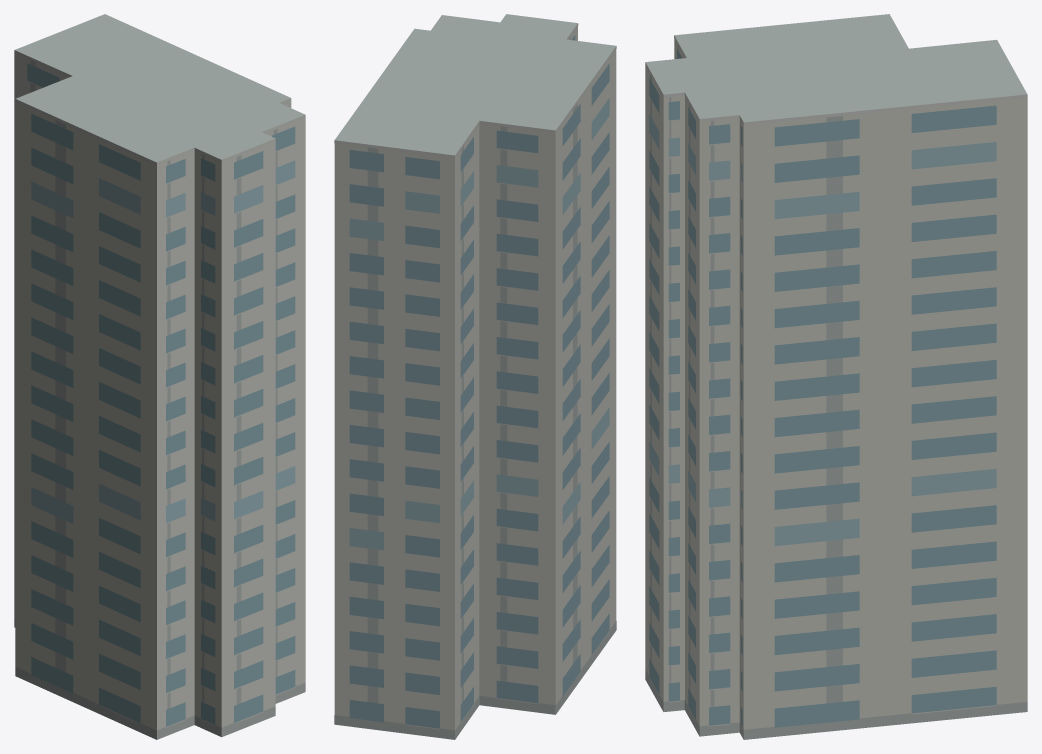
The model's file is survey-upis-32800722.glb.
3 views of the same model, side by side, from view 1: azimuth 30°, elevation 25°; view 2: azimuth 150°, elevation 25°; view 3: azimuth 270°, elevation 25° (orthographic). The views are drawn at different scales.
Parts seen in each view (by area): view 1: survey-upis-32800722.tmp; view 2: survey-upis-32800722.tmp; view 3: survey-upis-32800722.tmp.
Boxes of the visible parts, box(x1,y1,x2,y2) form: survey-upis-32800722.tmp: box(14, 14, 305, 739); survey-upis-32800722.tmp: box(334, 14, 616, 739); survey-upis-32800722.tmp: box(645, 14, 1027, 739).
Bounding box in the file's own units: 18.05 × 47.9 × 26.88.
